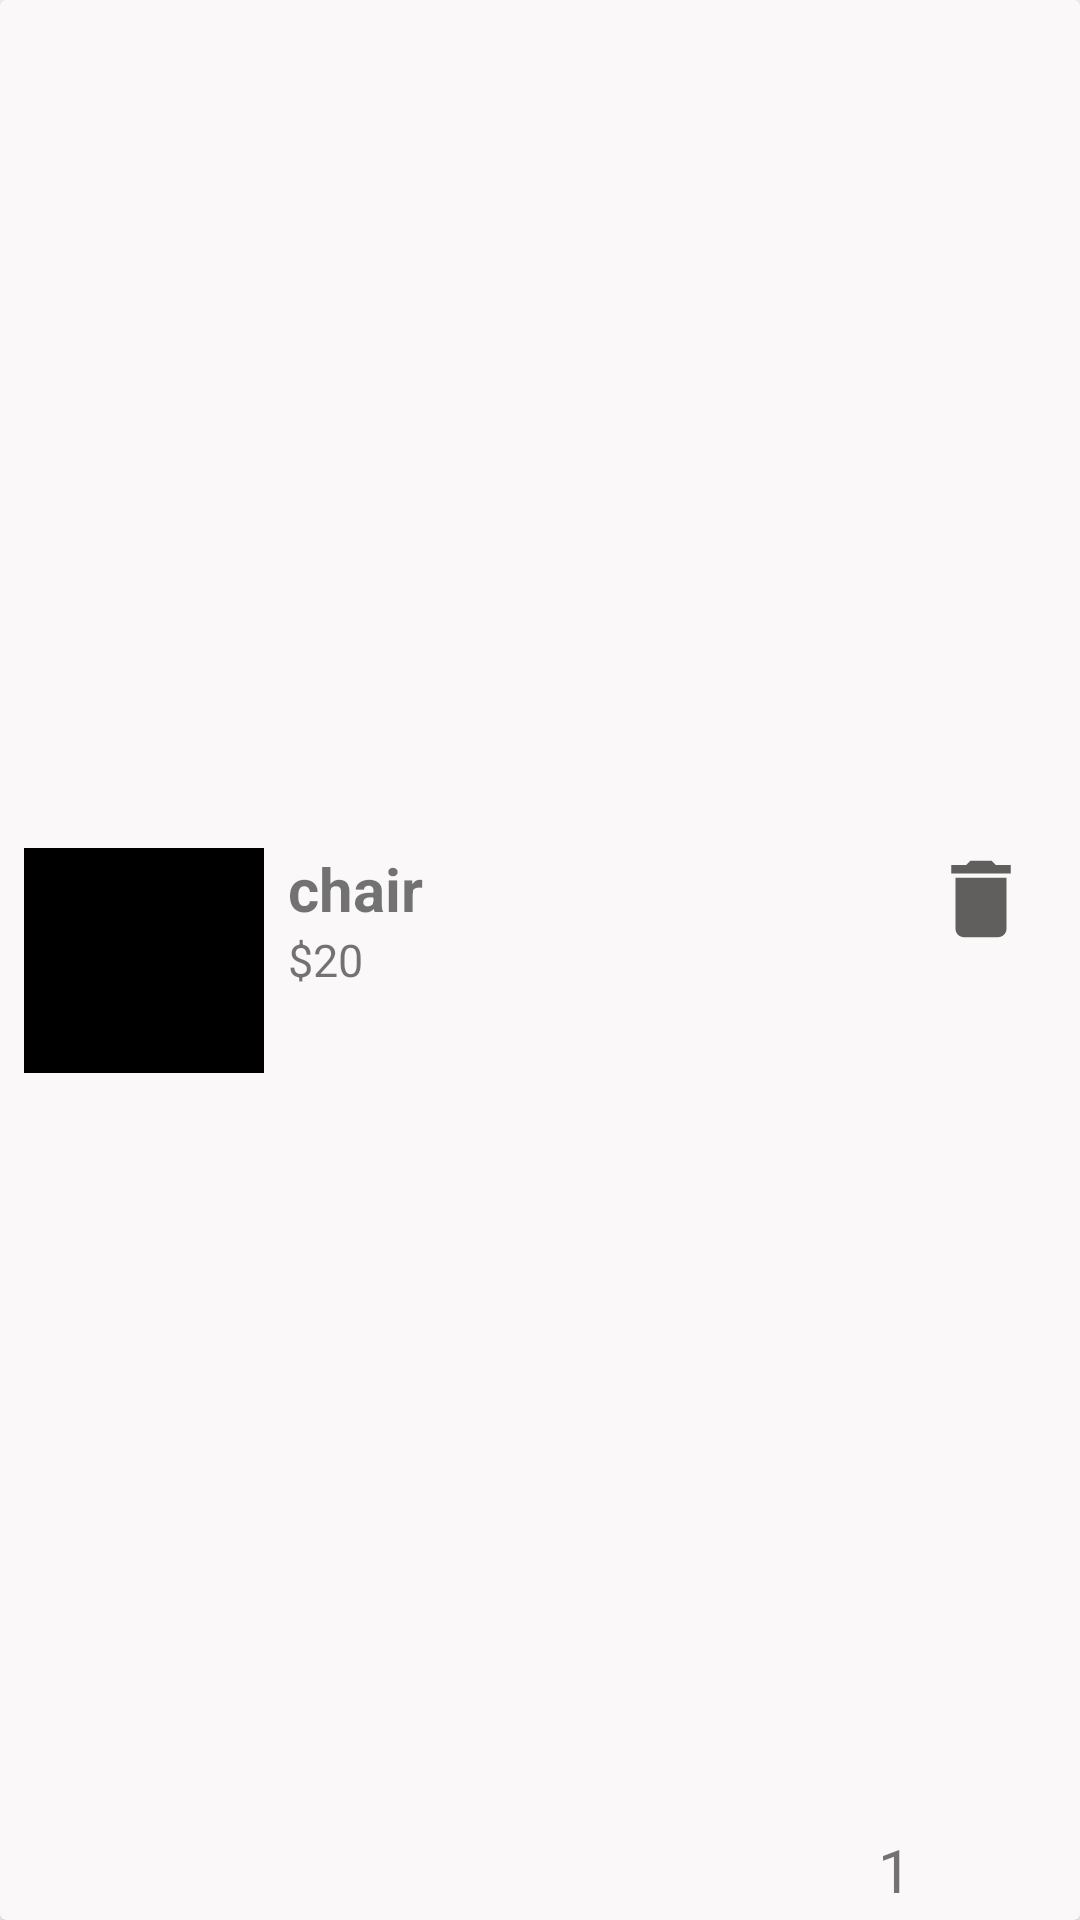

Point at icon controls on the screen. Image size 1080 × 1920, points as point (x, y).
delete: point (981, 899)
